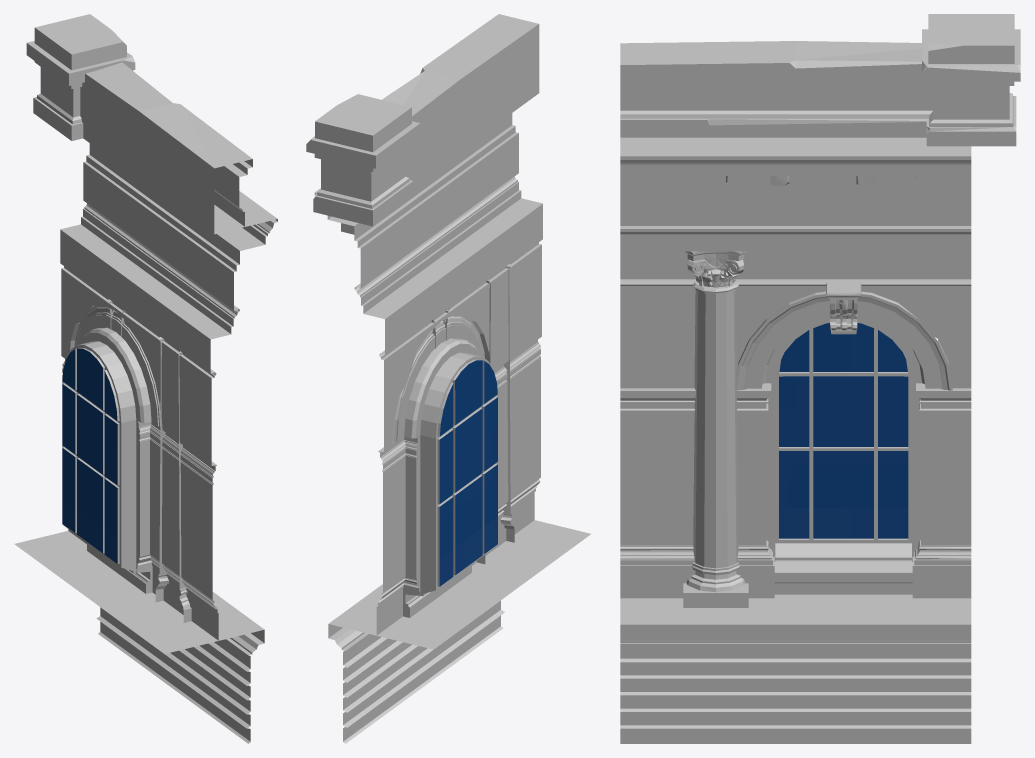
Rendered from Bank_Window01.fbx.
3 renders of one model, left to right at view 1: azimuth 30°, elevation 25°; view 2: azimuth 150°, elevation 25°; view 3: azimuth 270°, elevation 25°, orthographic. The views are drawn at different scales.
Visible parts, largest first — view 1: SM_Bank_Window_02b.mo; view 2: SM_Bank_Window_02b.mo; view 3: SM_Bank_Window_02b.mo.
Part boxes in pixels (x1,y1,x2,y2): SM_Bank_Window_02b.mo: (14, 14, 277, 743); SM_Bank_Window_02b.mo: (306, 14, 590, 743); SM_Bank_Window_02b.mo: (620, 14, 1020, 743).
Bounding box in the file's own units: 239 × 1217 × 627.
